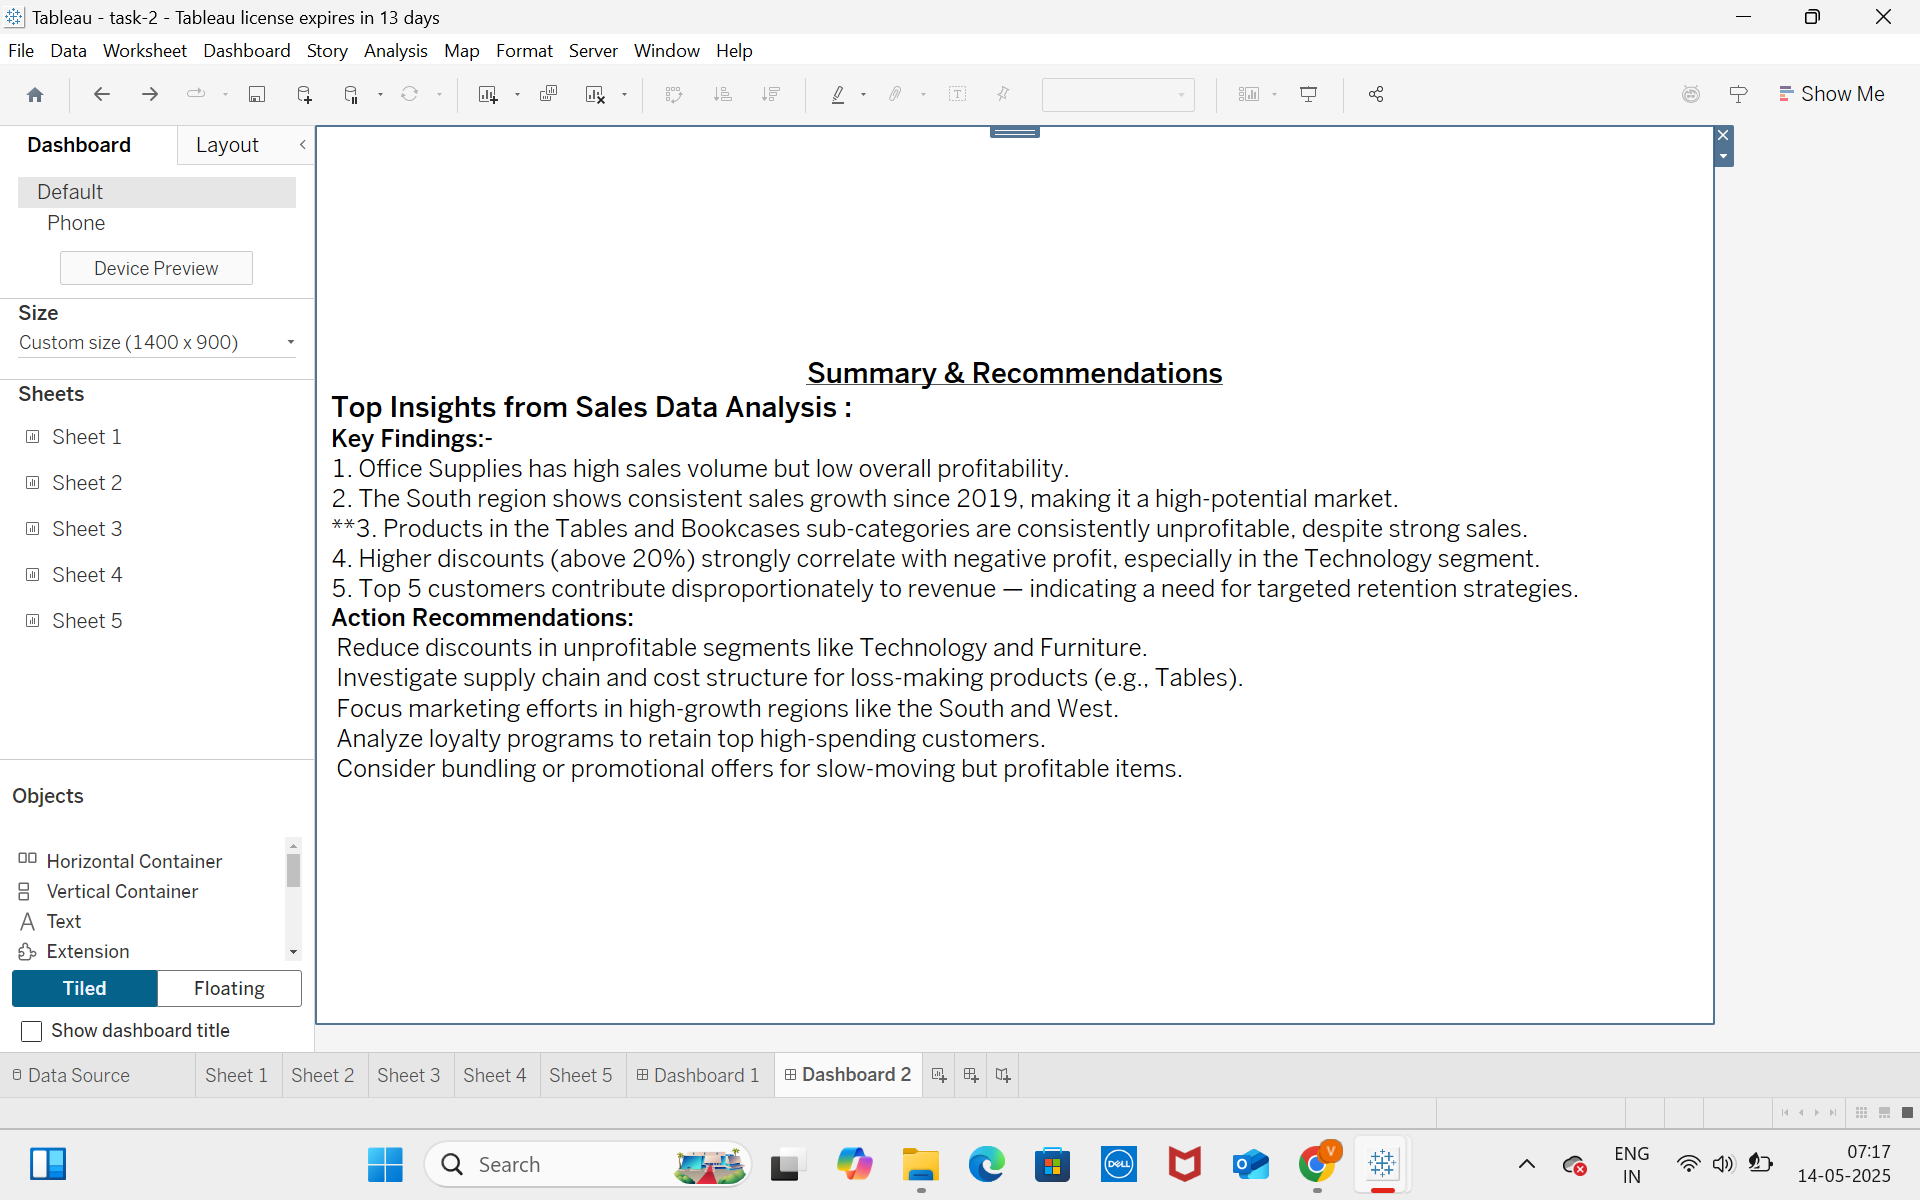

This screenshot's page, from the dashboard's own definition file:
{"tool":"tableau","page":{"name":"Dashboard 2","canvas":[1400,900],"ordinal":1},"visuals":[{"type":"text","box":[8,8,1384,884]}]}

Visuals, with their boxes on the page's 1400x900 design canvas (x1, y1, x2, y2). These are canvas units, not pixel positions in the 1920x1200 screenshot, which may show the page scaled, cropped or inside an application window:
text: 8:8:1392:892
